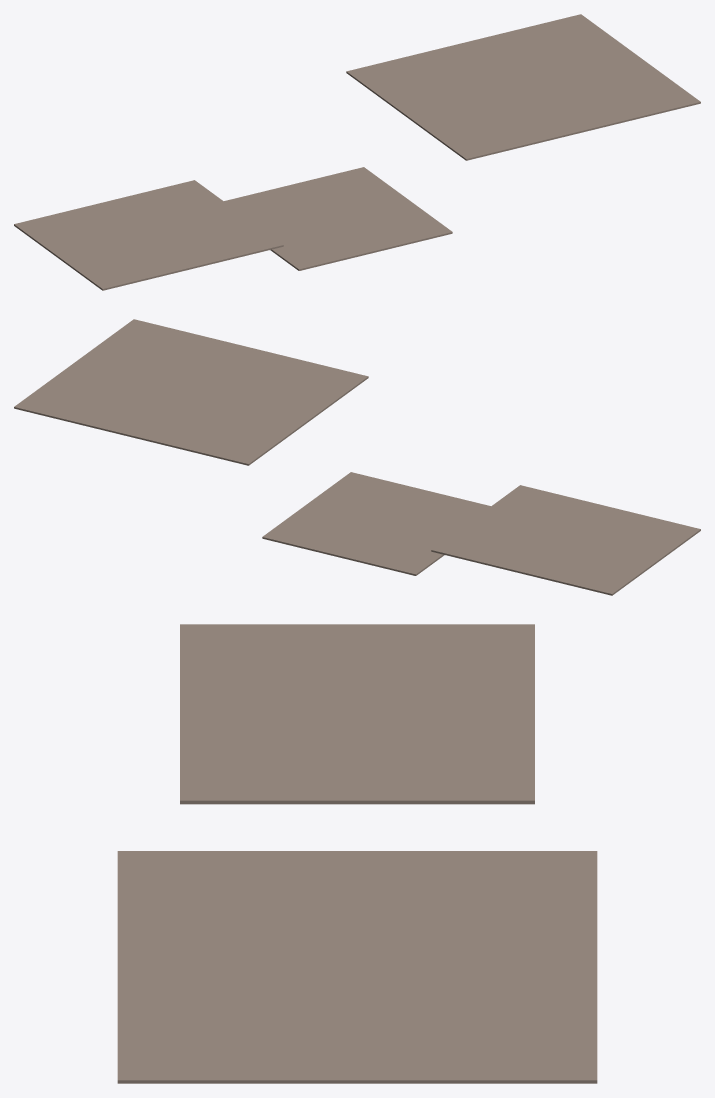
Rendered from chunk_0_5.glb.
3 views of the same model, one above another, from view 1: azimuth 30°, elevation 25°; view 2: azimuth 150°, elevation 25°; view 3: azimuth 270°, elevation 25° (orthographic). The views are drawn at different scales.
Parts seen in each view (by area): view 1: chunk_0_5__building; view 2: chunk_0_5__building; view 3: chunk_0_5__building.
Part boxes in pixels (x1=…): chunk_0_5__building: x1=14, y1=14, x2=700, y2=290; chunk_0_5__building: x1=14, y1=319, x2=700, y2=595; chunk_0_5__building: x1=117, y1=624, x2=597, y2=1083.
Bounding box in the file's own units: 43.2 × 6.12 × 15.4.
